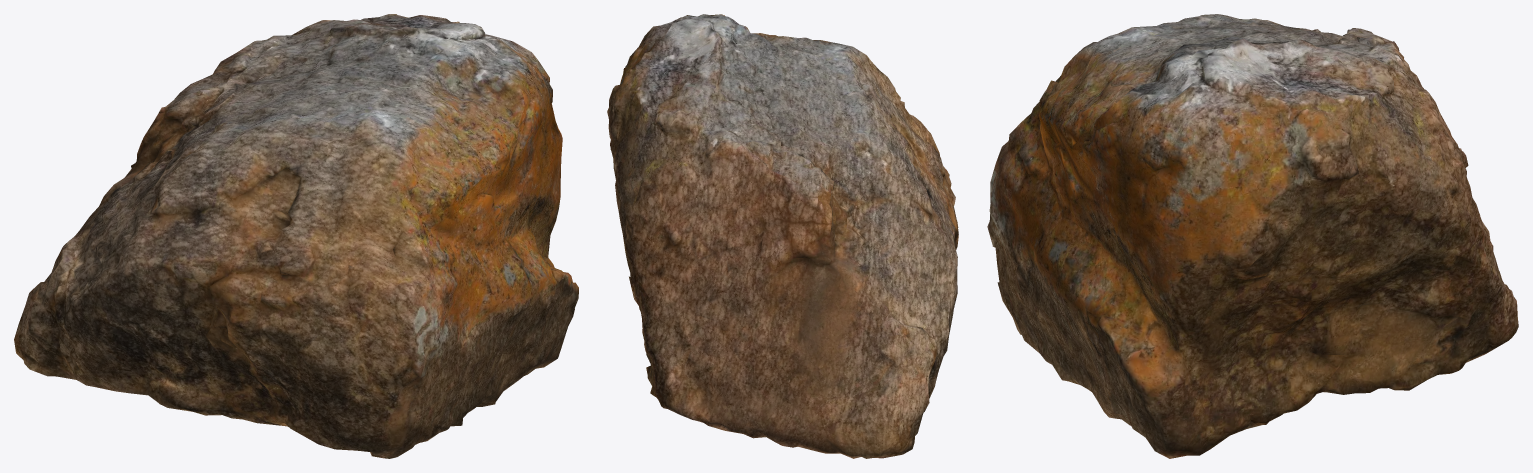
The model's file is ph_namaqualand_boulder_04.glb.
3 views of the same model, side by side, from view 1: azimuth 30°, elevation 25°; view 2: azimuth 150°, elevation 25°; view 3: azimuth 270°, elevation 25° (orthographic). The views are drawn at different scales.
Parts seen in each view (by area): view 1: boulder_04; view 2: boulder_04; view 3: boulder_04.
Part boxes in pixels (x1,y1,x2,y2): boulder_04: [14, 14, 578, 458]; boulder_04: [607, 14, 958, 458]; boulder_04: [987, 14, 1518, 458].
Bounding box in the file's own units: 2.52 × 1.9 × 2.49.
Materials: 1 (1 with a texture image).
